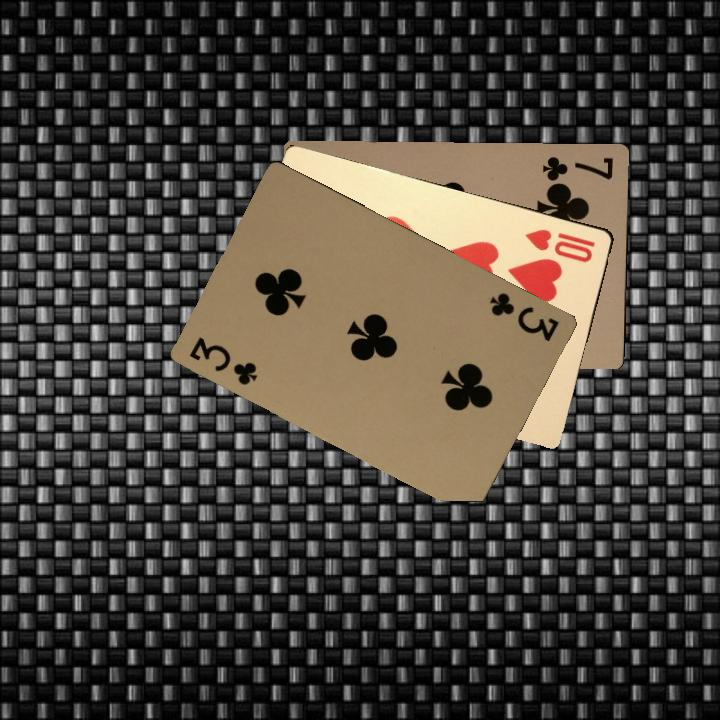10h: (521, 224, 598, 265)
3c: (485, 288, 562, 344), (185, 333, 260, 388)
7c: (538, 153, 616, 186)
